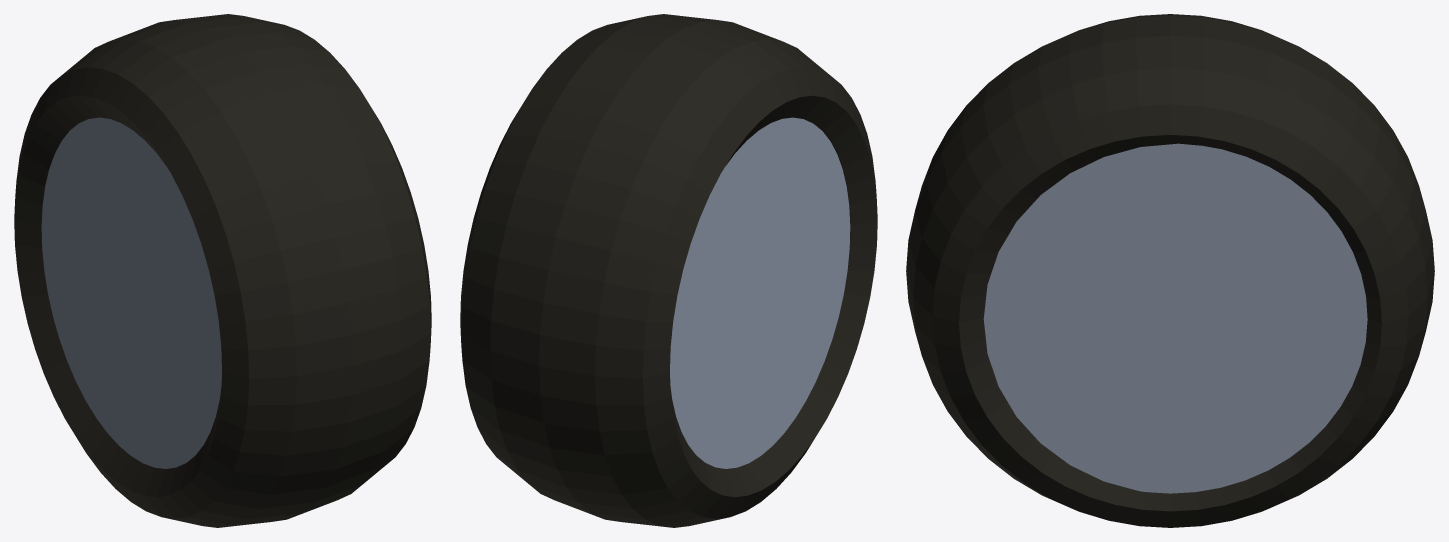
Rendered from RODS 2.fbx.
3 renders of one model, left to right at view 1: azimuth 30°, elevation 25°; view 2: azimuth 150°, elevation 25°; view 3: azimuth 270°, elevation 25°, orthographic.
Visible parts, largest first — view 1: Circle; view 2: Circle; view 3: Circle.
Boxes of the visible parts, box(x1,y1,x2,y2) form: Circle: box(14, 14, 431, 527); Circle: box(460, 14, 877, 527); Circle: box(906, 14, 1434, 527).
Bounding box in the file's own units: 26 × 54.41 × 55.24.
